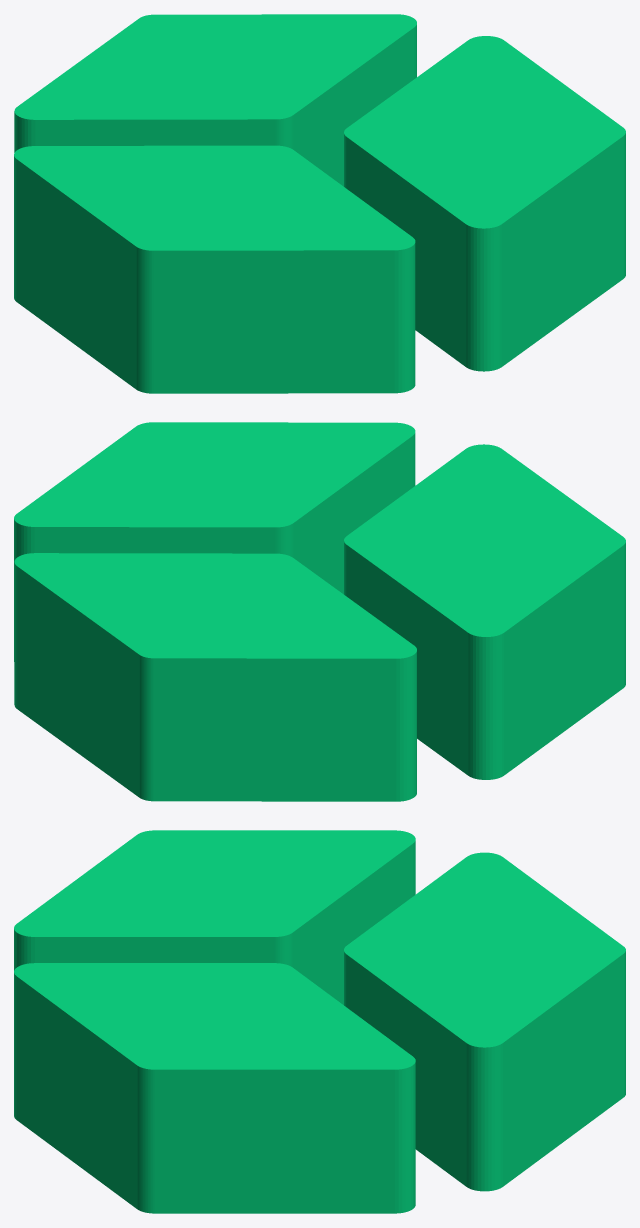
The model's file is cubo.glb.
3 renders of one model, top to bottom at view 1: azimuth 30°, elevation 25°; view 2: azimuth 150°, elevation 25°; view 3: azimuth 270°, elevation 25°, orthographic.
Visible parts, largest first — view 1: Curve, Curve.001, Curve.002; view 2: Curve.002, Curve, Curve.001; view 3: Curve.001, Curve.002, Curve.
Boxes of the visible parts, x1,y1,x2,y2 form: Curve: (14,145,415,393); Curve.001: (344,36,625,371); Curve.002: (14,14,416,186); Curve.002: (14,553,416,801); Curve: (344,444,625,779); Curve.001: (14,422,415,661); Curve.001: (14,963,415,1213); Curve.002: (344,852,625,1191); Curve: (14,830,415,1004).
Size of the model in its own units: 0.0535 by 0.015 by 0.0578.
